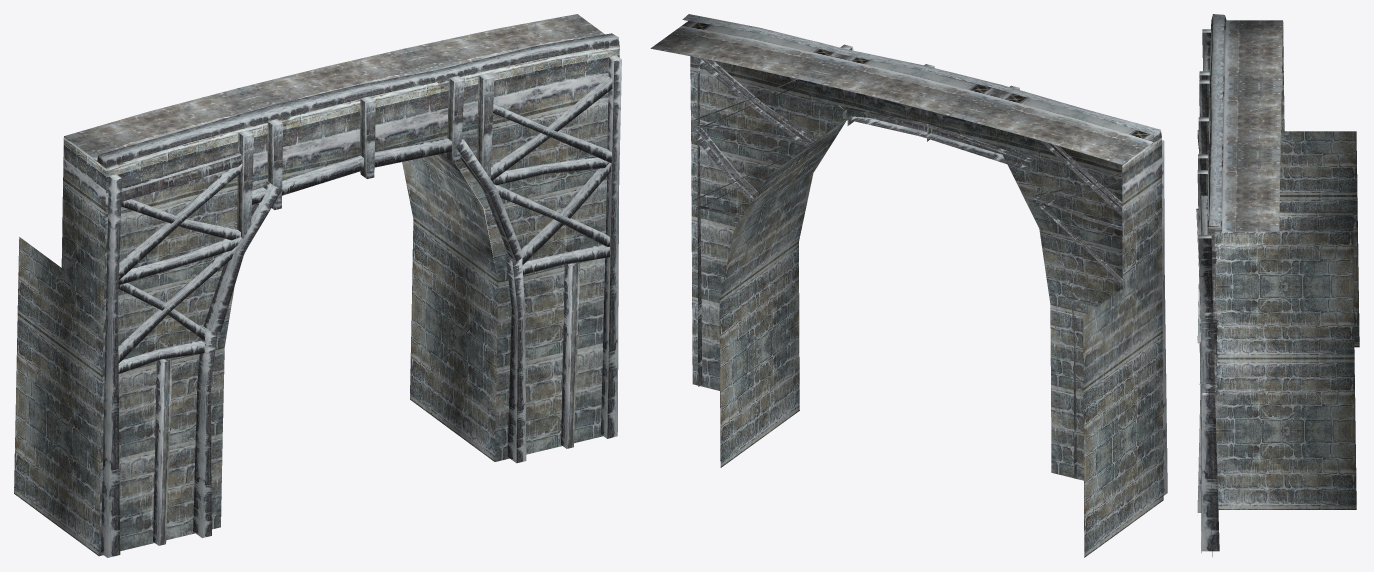
The model's file is S_Build_Snowland175_A1.FBX.
3 views of the same model, side by side, from view 1: azimuth 30°, elevation 25°; view 2: azimuth 150°, elevation 25°; view 3: azimuth 270°, elevation 25° (orthographic). The views are drawn at different scales.
Visible parts, largest first — view 1: S_Build_Snowland175_A1; view 2: S_Build_Snowland175_A1; view 3: S_Build_Snowland175_A1.
Part boxes in pixels (x1,y1,x2,y2): S_Build_Snowland175_A1: [14, 14, 621, 557]; S_Build_Snowland175_A1: [650, 14, 1167, 557]; S_Build_Snowland175_A1: [1196, 14, 1359, 556].
Bounding box in the file's own units: 2377 × 1783 × 772.
